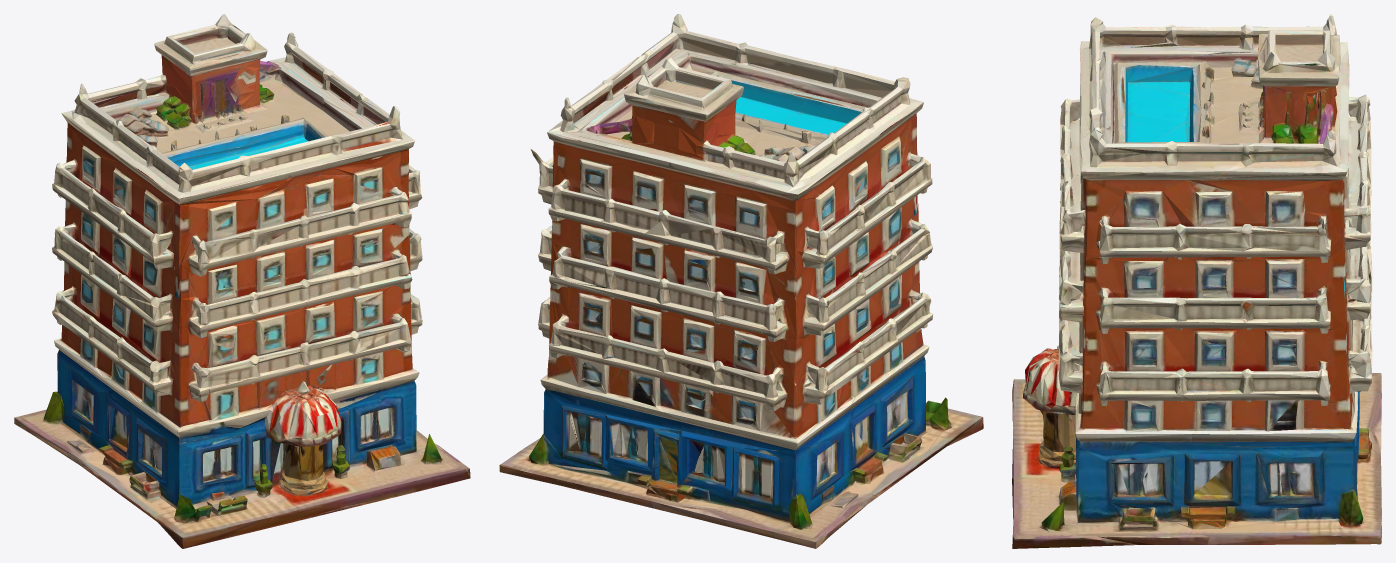
File: town_hotel.glb
The picture shows the model from 3 angles, left to right: view 1: azimuth 30°, elevation 25°; view 2: azimuth 150°, elevation 25°; view 3: azimuth 270°, elevation 25°; orthographic projection. The views are drawn at different scales.
Parts seen in each view (by area): view 1: normalize; view 2: normalize; view 3: normalize.
Boxes of the visible parts, x1=… form: normalize: x1=14, y1=14, x2=470, y2=548; normalize: x1=499, y1=14, x2=983, y2=548; normalize: x1=1012, y1=14, x2=1381, y2=548.
Size of the model in its own units: 1 by 1.25 by 0.9491.
Materials: 1 (1 with a texture image).
